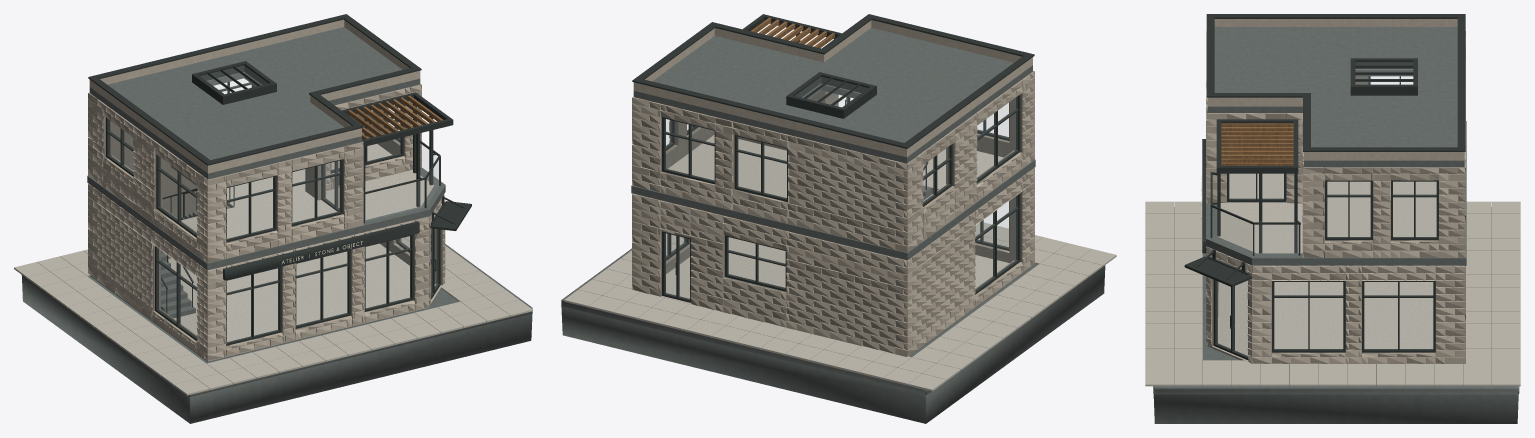
The model's file is stone_shop.glb.
3 views of the same model, side by side, from view 1: azimuth 30°, elevation 25°; view 2: azimuth 150°, elevation 25°; view 3: azimuth 270°, elevation 25° (orthographic). The views are drawn at different scales.
Parts seen in each view (by area): view 1: stone_shop; view 2: stone_shop; view 3: stone_shop.
Part boxes in pixels (left/top/right/bottom): stone_shop: left=14, top=14, right=532, bottom=423; stone_shop: left=561, top=14, right=1116, bottom=423; stone_shop: left=1145, top=14, right=1520, bottom=423.
Size of the model in its own units: 13.64 by 8.64 by 11.69.
Materials: 14 (13 with a texture image).
